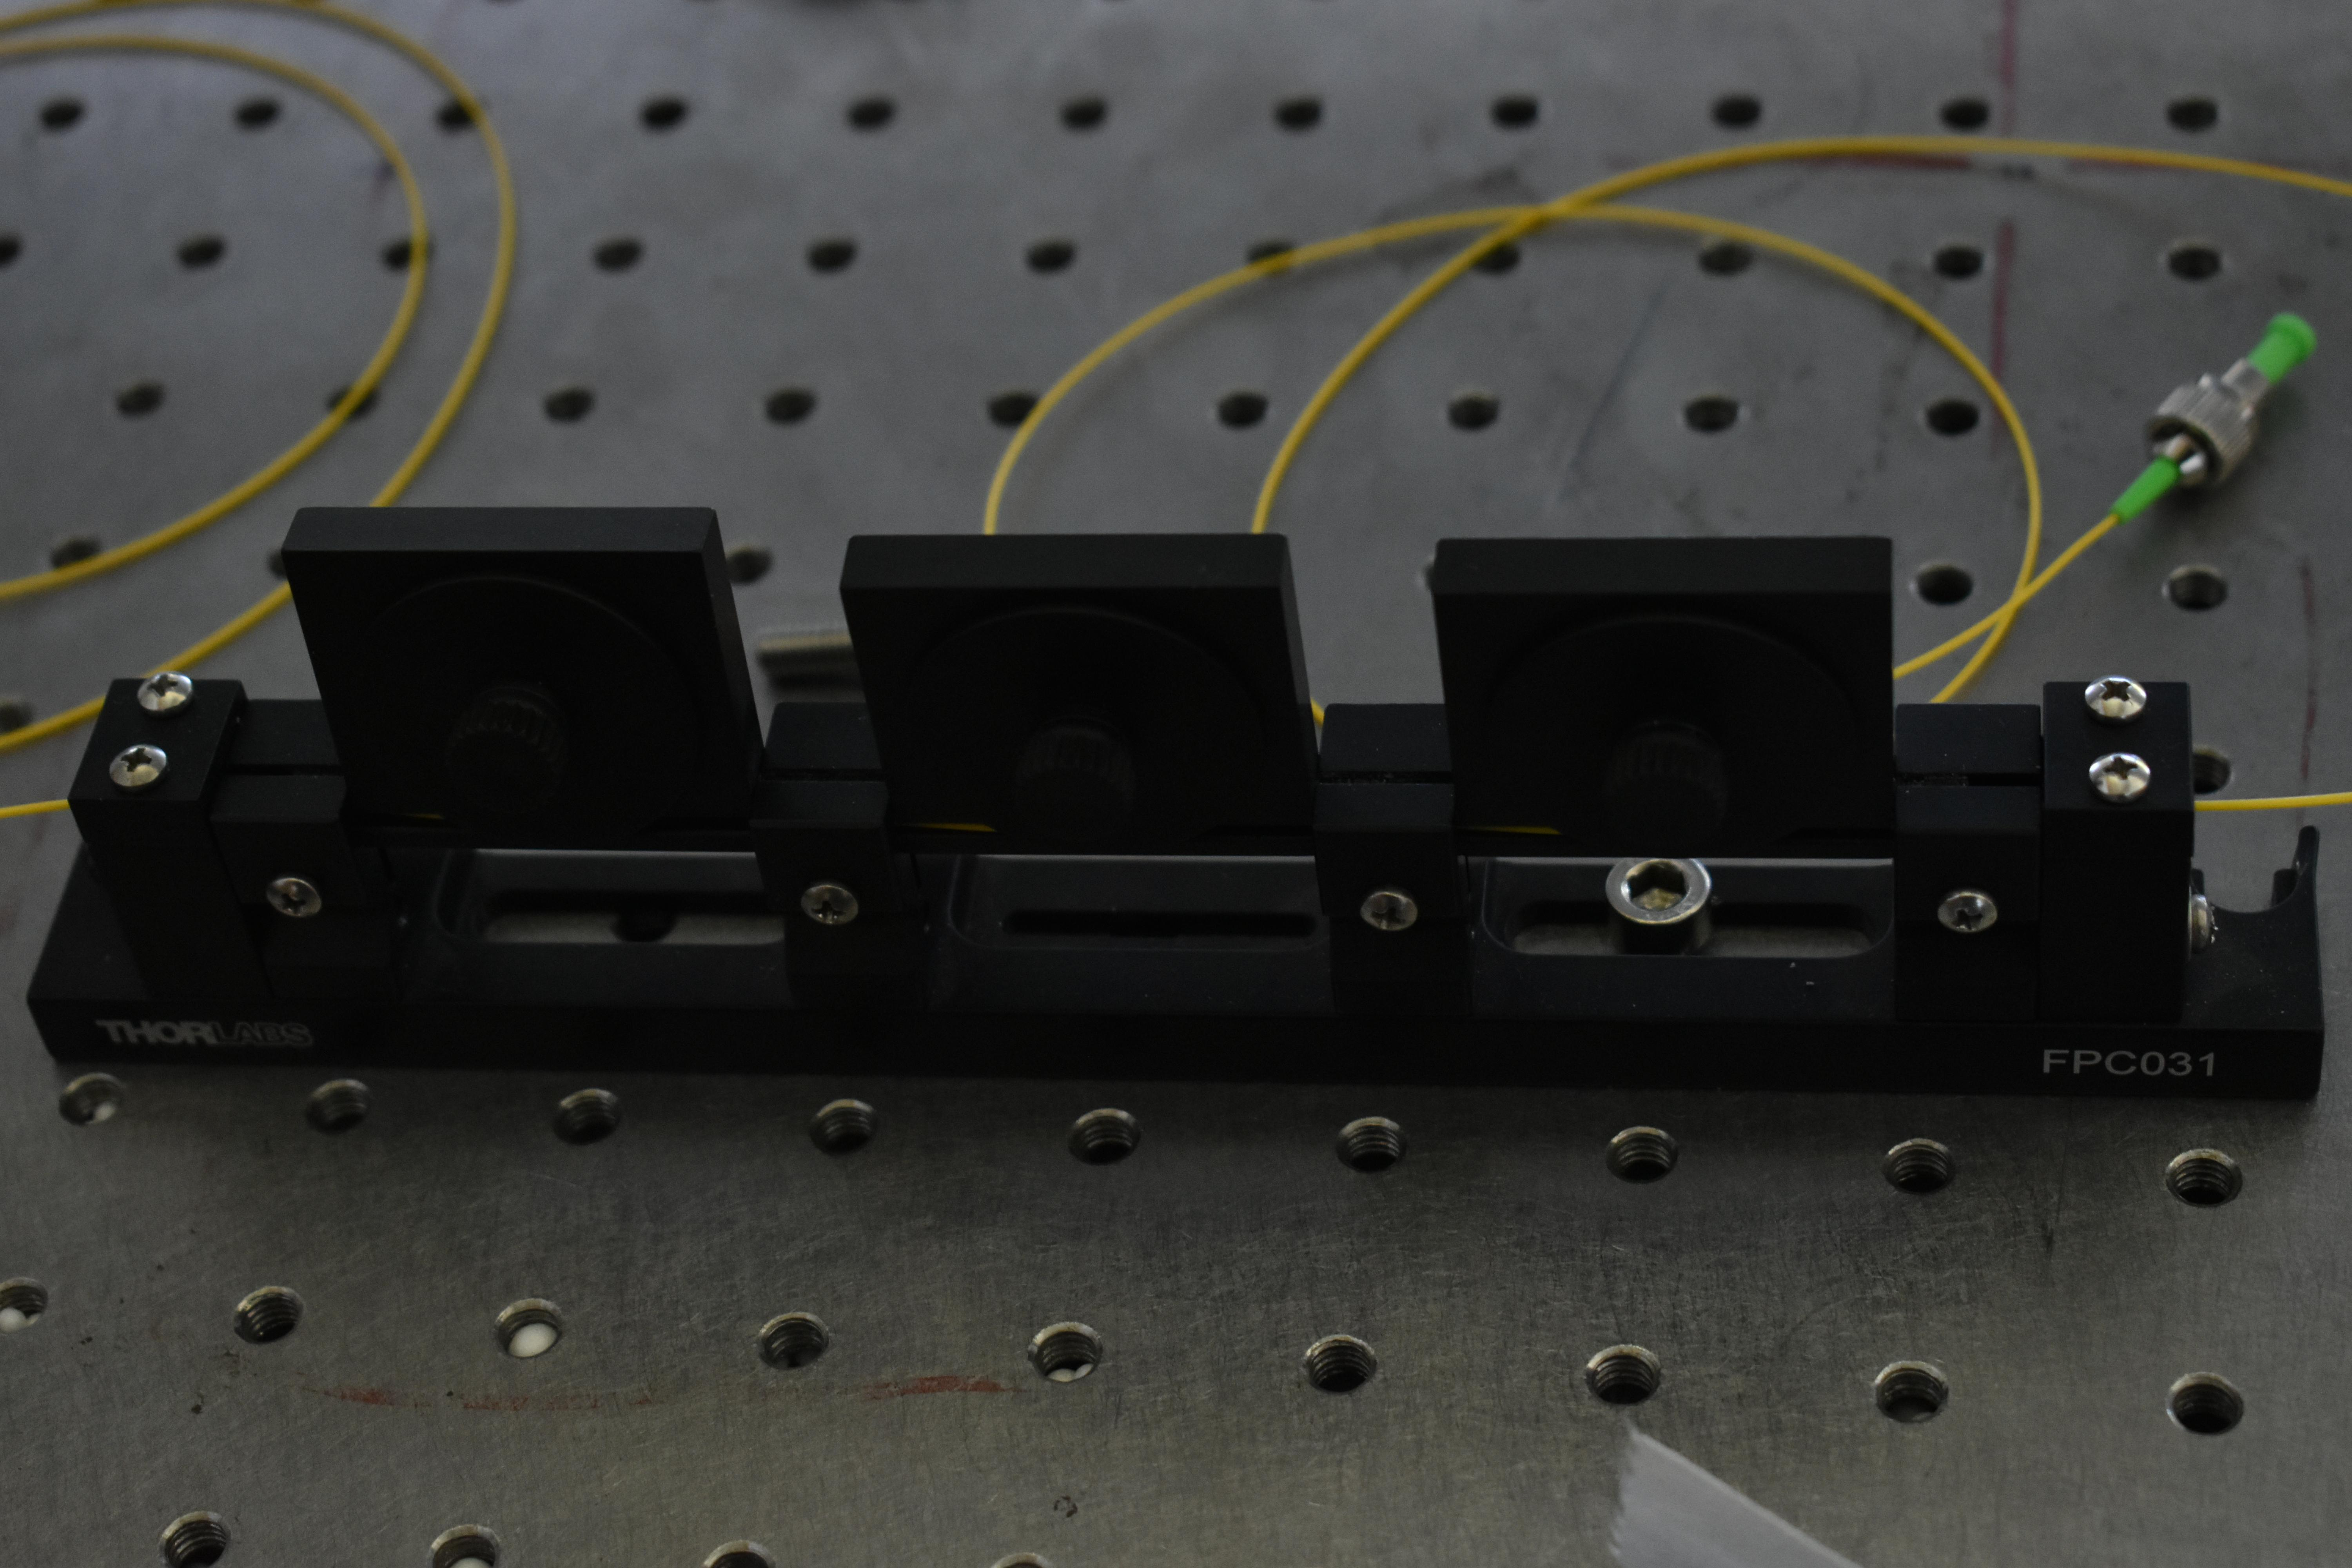fiber_cable: (936, 88, 2325, 693)
paddle_polarization_controller: (12, 492, 2341, 1113)
